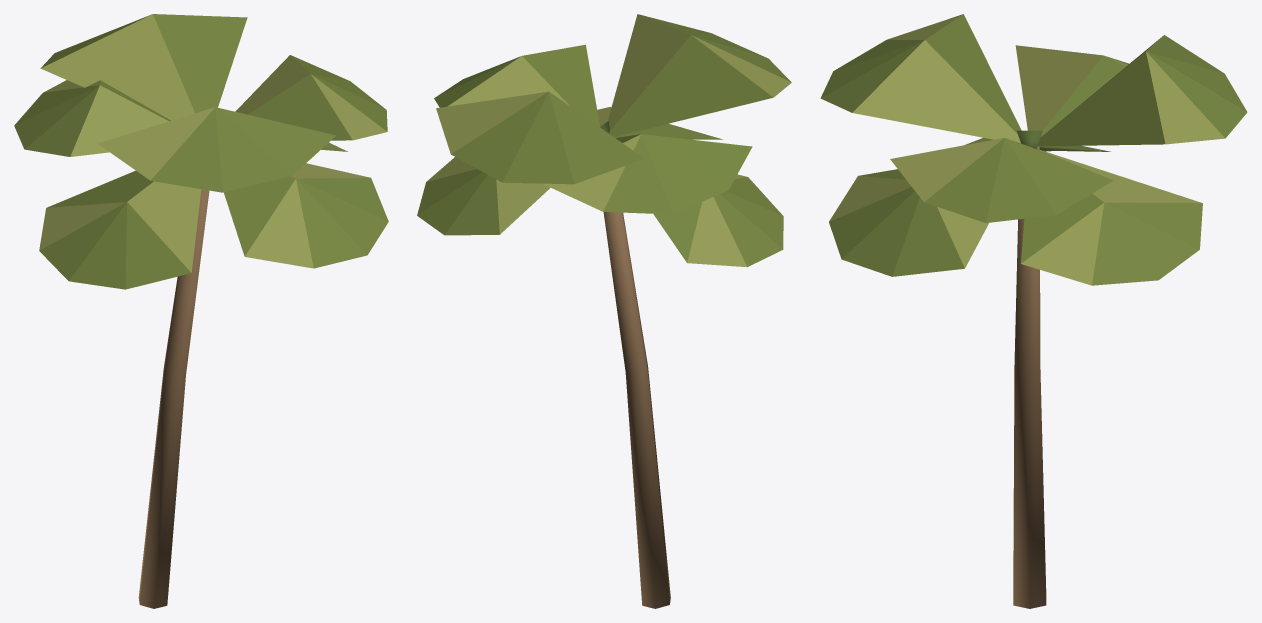
File: coast_palm_far.glb
3 renders of one model, left to right at view 1: azimuth 30°, elevation 25°; view 2: azimuth 150°, elevation 25°; view 3: azimuth 270°, elevation 25°, orthographic. The views are drawn at different scales.
Parts seen in each view (by area): view 1: coast_palm_far; view 2: coast_palm_far; view 3: coast_palm_far.
Part boxes in pixels (bbox=[...]): coast_palm_far: bbox=[14, 14, 388, 608]; coast_palm_far: bbox=[417, 14, 791, 608]; coast_palm_far: bbox=[820, 14, 1247, 608].
Bounding box in the file's own units: 3.84 × 6.16 × 4.12.
